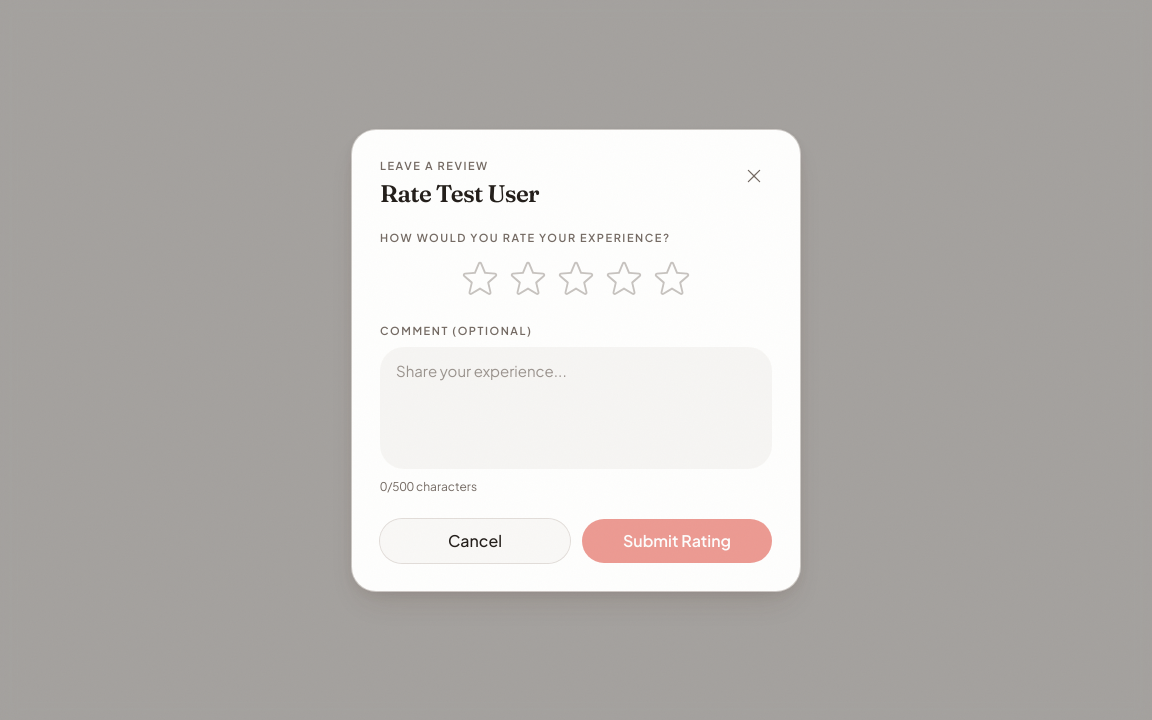
Test: RatingModal › updates rating when star is clicked
Click the button named "Rate 4 stars" at [624, 278], box [604, 258, 644, 298]
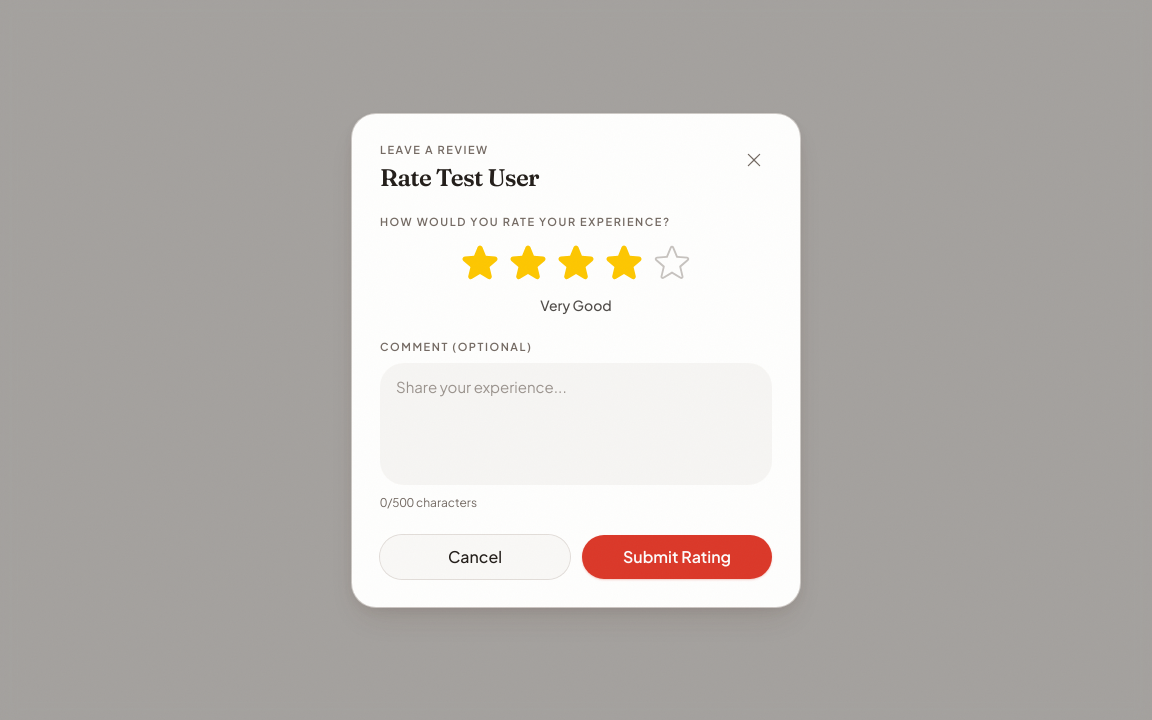
Expected: the text "Very Good" is shown, [540, 296, 612, 314]
